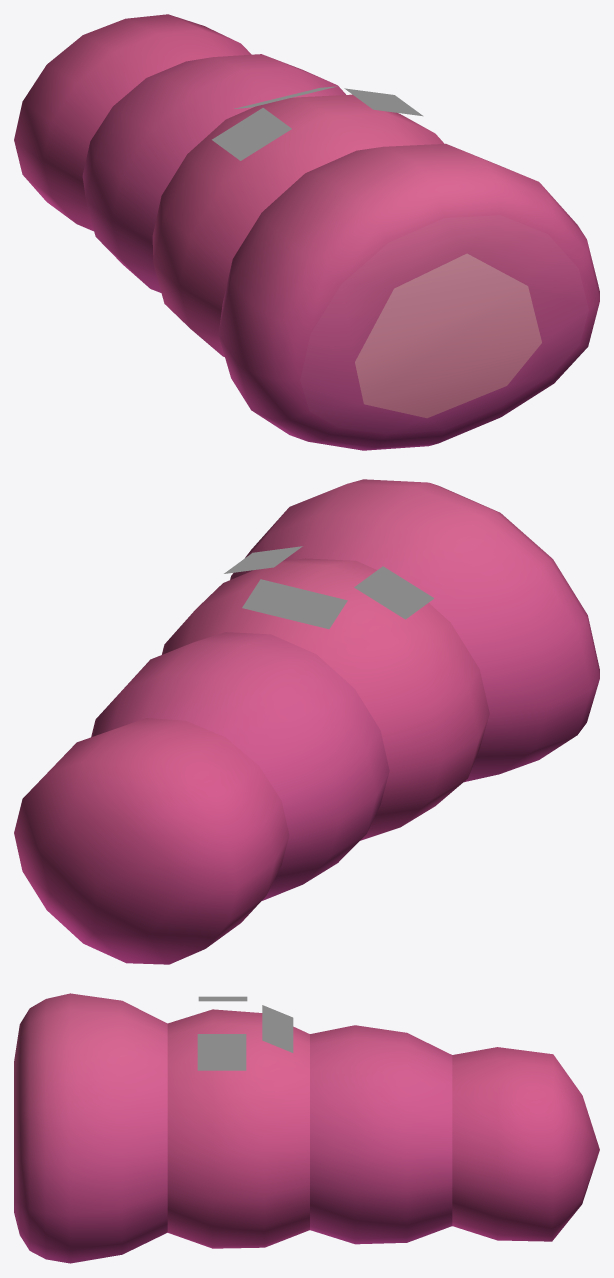
File: sweet_tube_pink_smile.fbx
3 renders of one model, top to bottom at view 1: azimuth 30°, elevation 25°; view 2: azimuth 150°, elevation 25°; view 3: azimuth 270°, elevation 25°, orthographic. The views are drawn at different scales.
Visible parts, largest first — view 1: pie_pink, smile_pie; view 2: pie_pink, smile_pie; view 3: pie_pink, smile_pie.
Part boxes in pixels (x1,y1,x2,y2): pie_pink: (14, 14, 599, 450); smile_pie: (212, 86, 423, 160); pie_pink: (14, 479, 599, 964); smile_pie: (224, 546, 434, 629); pie_pink: (14, 993, 599, 1263); smile_pie: (197, 996, 293, 1070).
Size of the model in its own units: 34.33 by 25.87 by 58.99.
